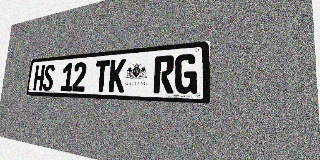1: (60, 63, 75, 91)
2: (72, 62, 87, 92)
G: (174, 53, 198, 94)
H: (33, 65, 45, 91)
K: (108, 59, 126, 92)
R: (153, 55, 175, 94)
S: (42, 64, 55, 91)
T: (94, 60, 110, 92)
